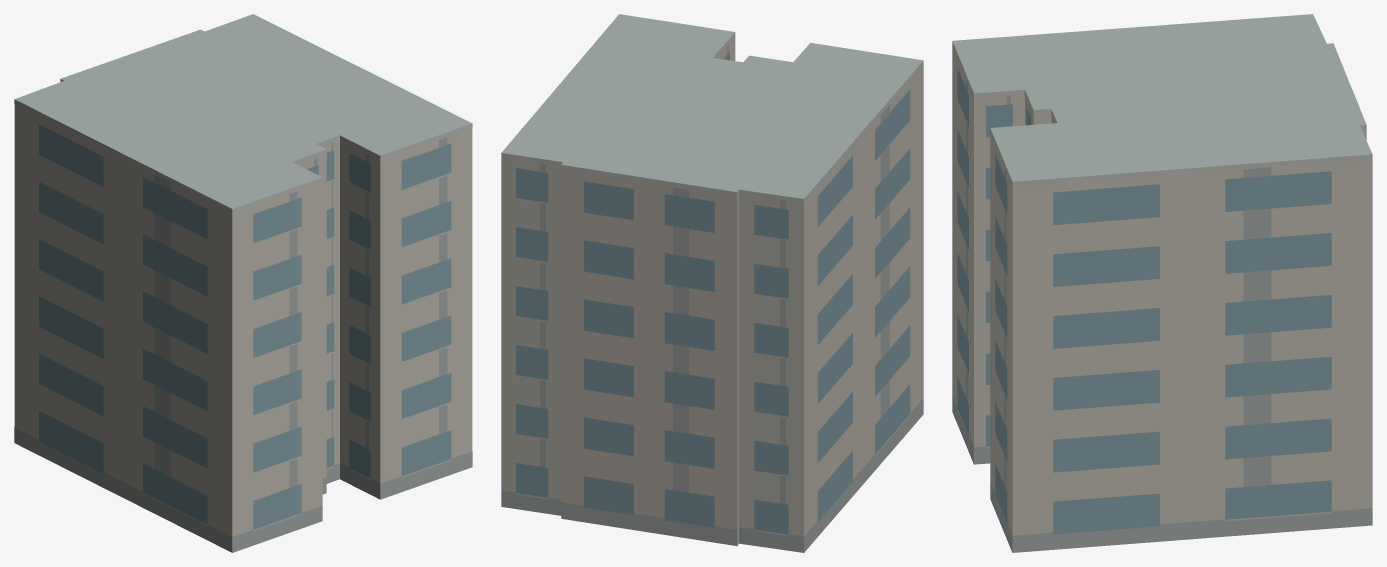
File: survey-upis-32840919.glb
3 renders of one model, left to right at view 1: azimuth 30°, elevation 25°; view 2: azimuth 150°, elevation 25°; view 3: azimuth 270°, elevation 25°, orthographic. The views are drawn at different scales.
Parts seen in each view (by area): view 1: survey-upis-32840919.tmp; view 2: survey-upis-32840919.tmp; view 3: survey-upis-32840919.tmp.
Part boxes in pixels (x1=…): survey-upis-32840919.tmp: x1=14, y1=14, x2=472, y2=552; survey-upis-32840919.tmp: x1=501, y1=14, x2=923, y2=552; survey-upis-32840919.tmp: x1=952, y1=14, x2=1372, y2=552.
Bounding box in the file's own units: 16.6 × 17.1 × 17.56.
